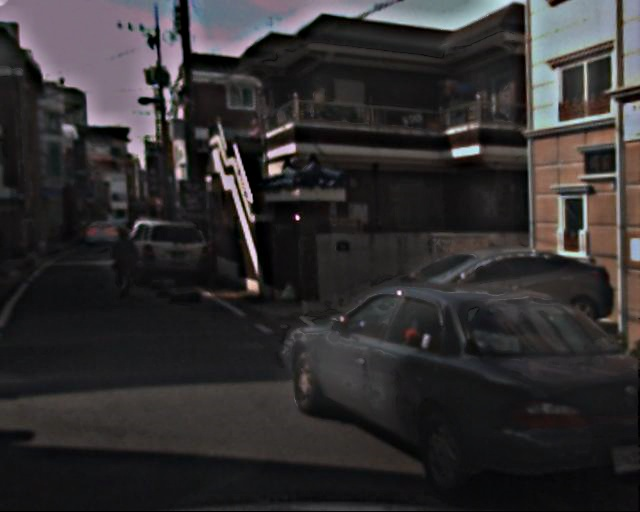person: (108, 227, 139, 303)
